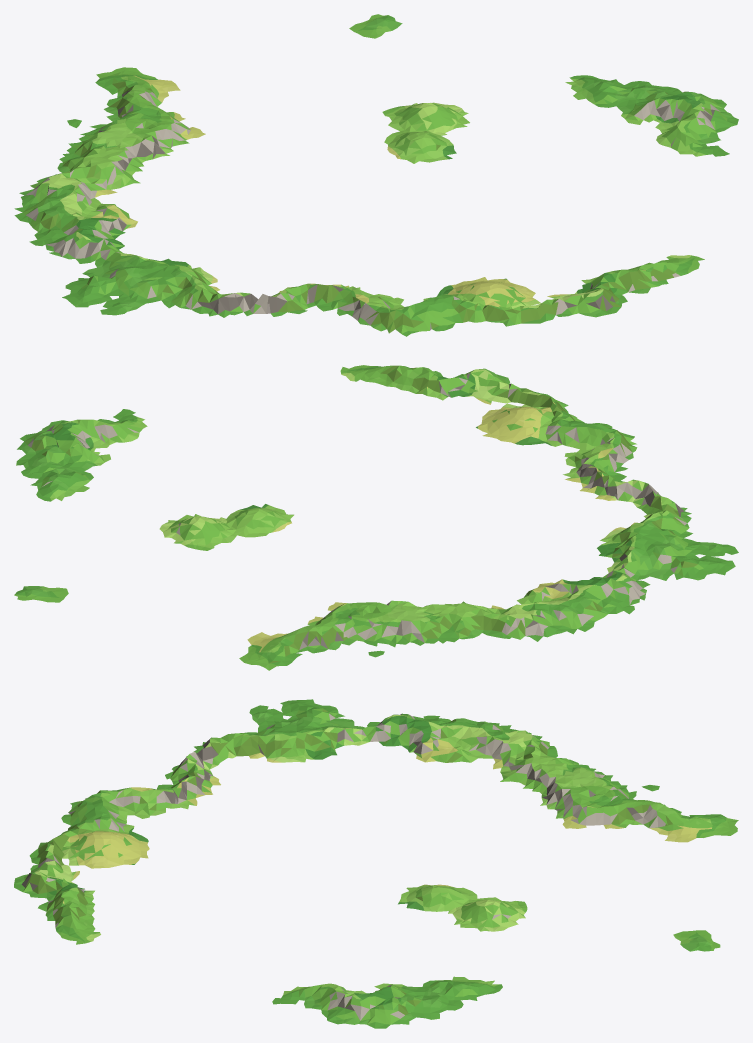
File: Isl-flat1-Relief.fbx
3 renders of one model, top to bottom at view 1: azimuth 30°, elevation 25°; view 2: azimuth 150°, elevation 25°; view 3: azimuth 270°, elevation 25°, orthographic. The views are drawn at different scales.
Parts seen in each view (by area): view 1: Isl-flat1-Relief-c11, Isl-flat1-Relief-c12, Isl-flat1-Relief-c22, Isl-flat1-Relief-c21; view 2: Isl-flat1-Relief-c12, Isl-flat1-Relief-c11, Isl-flat1-Relief-c22, Isl-flat1-Relief-c21; view 3: Isl-flat1-Relief-c11, Isl-flat1-Relief-c12, Isl-flat1-Relief-c22, Isl-flat1-Relief-c21.
Part boxes in pixels (<box>): Isl-flat1-Relief-c11: <box>62,252,567,336</box>; Isl-flat1-Relief-c12: <box>14,67,205,264</box>; Isl-flat1-Relief-c22: <box>349,14,726,163</box>; Isl-flat1-Relief-c21: <box>547,103,738,317</box>; Isl-flat1-Relief-c12: <box>239,567,650,670</box>; Isl-flat1-Relief-c11: <box>476,383,738,580</box>; Isl-flat1-Relief-c22: <box>14,423,293,602</box>; Isl-flat1-Relief-c21: <box>42,365,510,447</box>; Isl-flat1-Relief-c11: <box>29,699,362,868</box>; Isl-flat1-Relief-c12: <box>359,713,738,842</box>; Isl-flat1-Relief-c22: <box>358,884,720,1028</box>; Isl-flat1-Relief-c21: <box>14,858,362,1024</box>.
Size of the model in its own units: 99.32 by 2.36 by 92.47.
